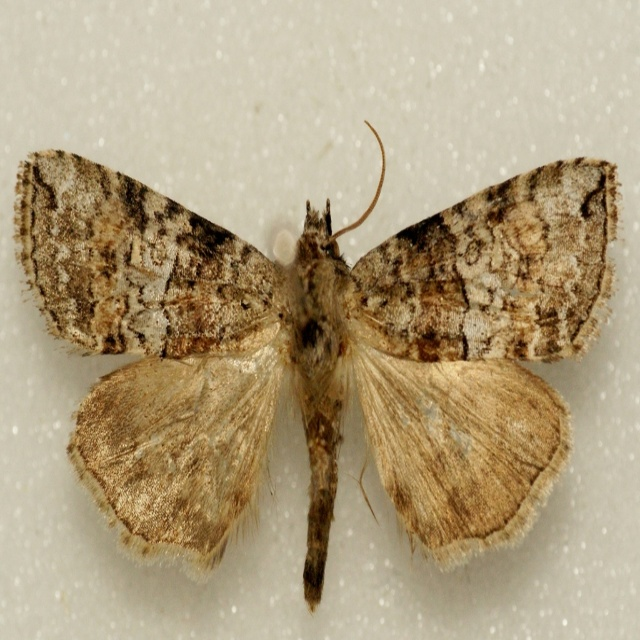Moths and butterflies: (10, 111, 626, 615)
